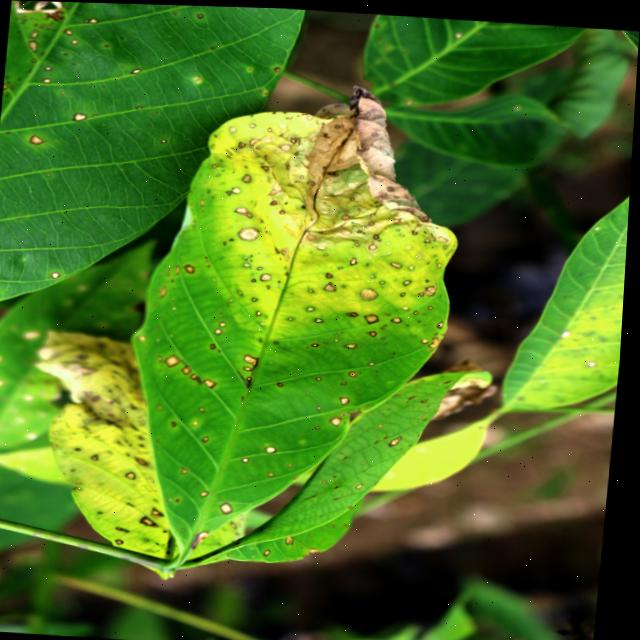Colletotrichum: (240, 223, 261, 239), (363, 284, 382, 297), (169, 352, 183, 365), (225, 500, 239, 512), (367, 310, 382, 321), (145, 514, 161, 524), (74, 110, 88, 120), (394, 432, 406, 443), (334, 413, 347, 423), (31, 134, 45, 143), (326, 280, 340, 288), (208, 377, 221, 385), (270, 443, 283, 451), (264, 270, 274, 279), (243, 171, 253, 180), (131, 469, 142, 477), (188, 262, 198, 270), (344, 393, 354, 401), (394, 313, 406, 319), (348, 340, 362, 345), (292, 533, 300, 541), (187, 363, 195, 371), (350, 308, 362, 313), (270, 546, 277, 554), (218, 325, 226, 332), (234, 185, 243, 191), (352, 368, 361, 374), (372, 328, 381, 334), (360, 480, 369, 486), (43, 77, 53, 82), (89, 17, 99, 22), (54, 271, 62, 277), (240, 139, 248, 145), (371, 241, 379, 247), (197, 11, 204, 17), (275, 63, 281, 70), (122, 537, 130, 542), (65, 28, 73, 33), (96, 452, 104, 457), (247, 454, 255, 459), (318, 315, 328, 319), (344, 211, 352, 216), (314, 339, 323, 343), (214, 341, 220, 347), (247, 364, 256, 368), (441, 318, 447, 324), (223, 319, 230, 324), (320, 373, 327, 378), (45, 65, 53, 69), (310, 304, 318, 308), (425, 335, 433, 339), (71, 38, 77, 43), (259, 308, 265, 313), (376, 231, 382, 236), (311, 285, 318, 289), (281, 379, 288, 383), (162, 137, 168, 141), (273, 198, 279, 202), (255, 295, 261, 299), (330, 271, 336, 275), (281, 207, 287, 211), (371, 218, 377, 222), (422, 288, 428, 292), (431, 302, 437, 306), (321, 403, 326, 407), (337, 336, 343, 339), (260, 264, 265, 267), (254, 276, 259, 279), (320, 423, 325, 426), (0, 288, 3, 292), (226, 239, 229, 242), (270, 282, 273, 285), (232, 236, 236, 238), (292, 315, 296, 317), (429, 276, 433, 278), (0, 296, 1, 299)
Leaf-Blight: (301, 79, 460, 228)
